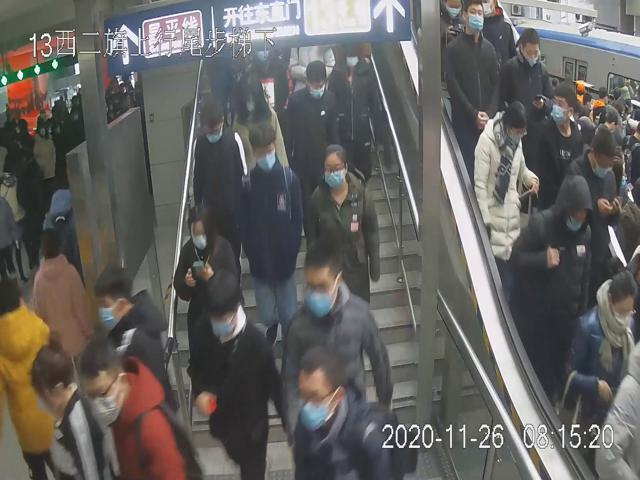person: (282, 247, 393, 466), (190, 272, 285, 480), (499, 172, 590, 382), (174, 203, 248, 444), (232, 125, 305, 353), (301, 141, 381, 319), (471, 100, 540, 269), (188, 94, 249, 272), (283, 58, 345, 196), (227, 71, 292, 202), (445, 0, 500, 153), (322, 43, 383, 174), (498, 28, 553, 158), (523, 82, 583, 198)
